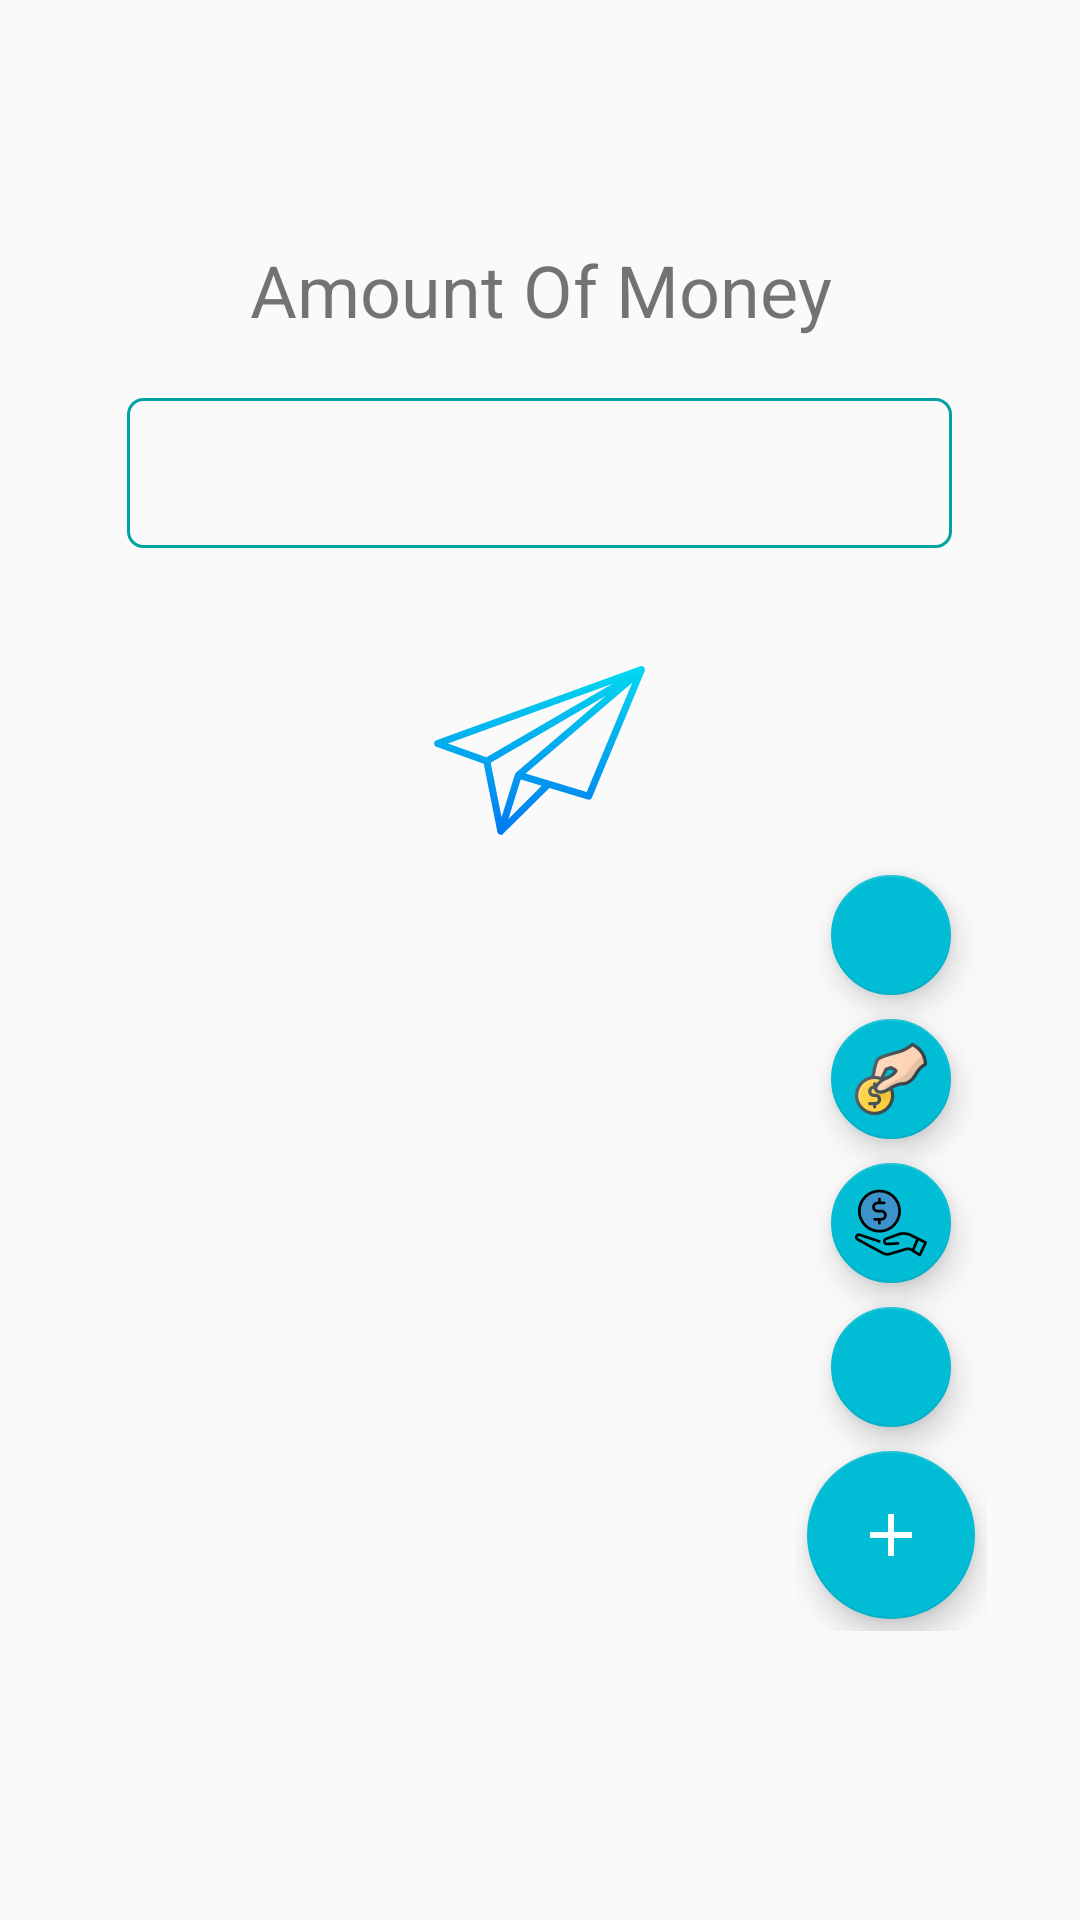

Icon bounding boxes for this 1080*1920 phone screenshot, format (x1, y1, x2, y2):
add: (807, 1451, 975, 1619)
donate: (831, 1019, 951, 1139)
money hand: (831, 1163, 951, 1283)
send: (434, 666, 645, 835)
